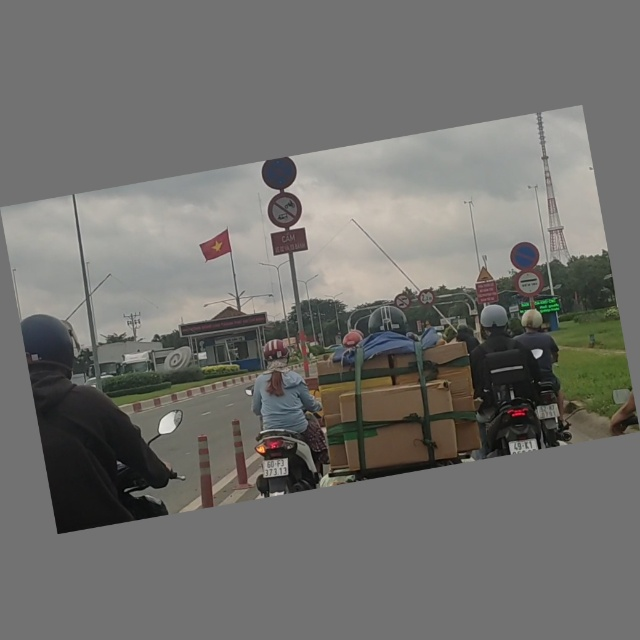P.107: (394, 293, 412, 311)
P.111: (265, 190, 305, 232)
P.117*: (417, 289, 435, 307)
P.129: (514, 269, 544, 300)
P.130: (260, 157, 300, 192)
P.131a: (508, 240, 542, 273)
W.221b: (474, 265, 494, 284)
